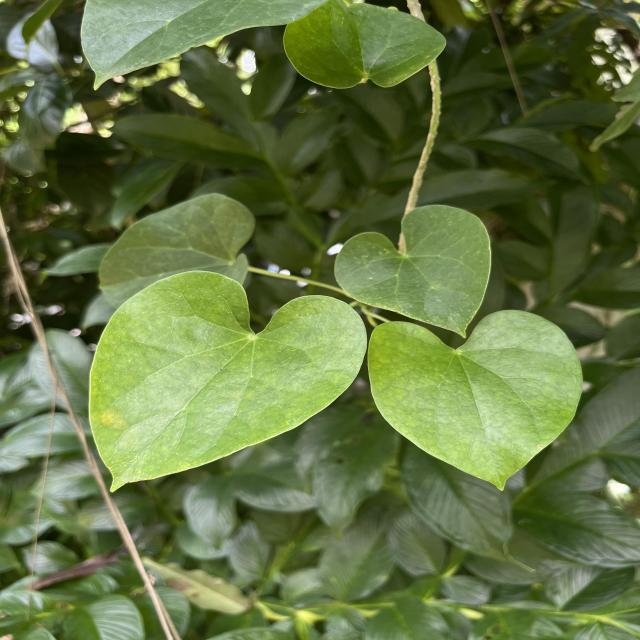Tinospora cordifolia: (85, 268, 370, 496), (366, 306, 585, 494), (332, 201, 494, 341)
